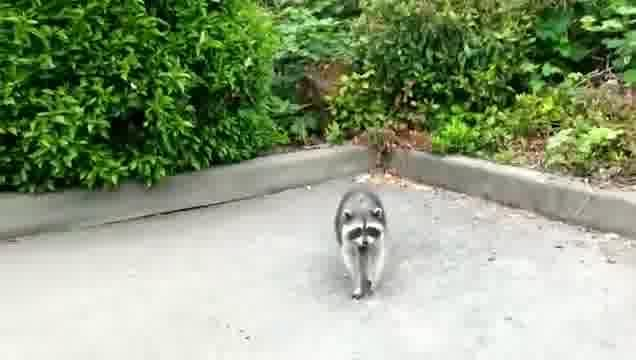raccoon: (330, 187, 393, 307)
